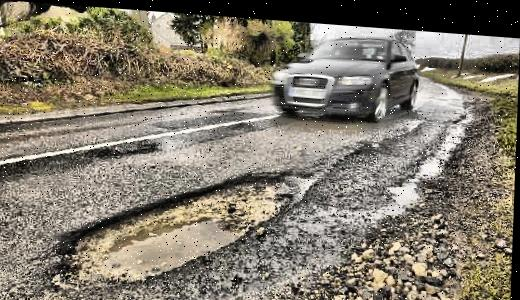pothole: (58, 153, 318, 290)
